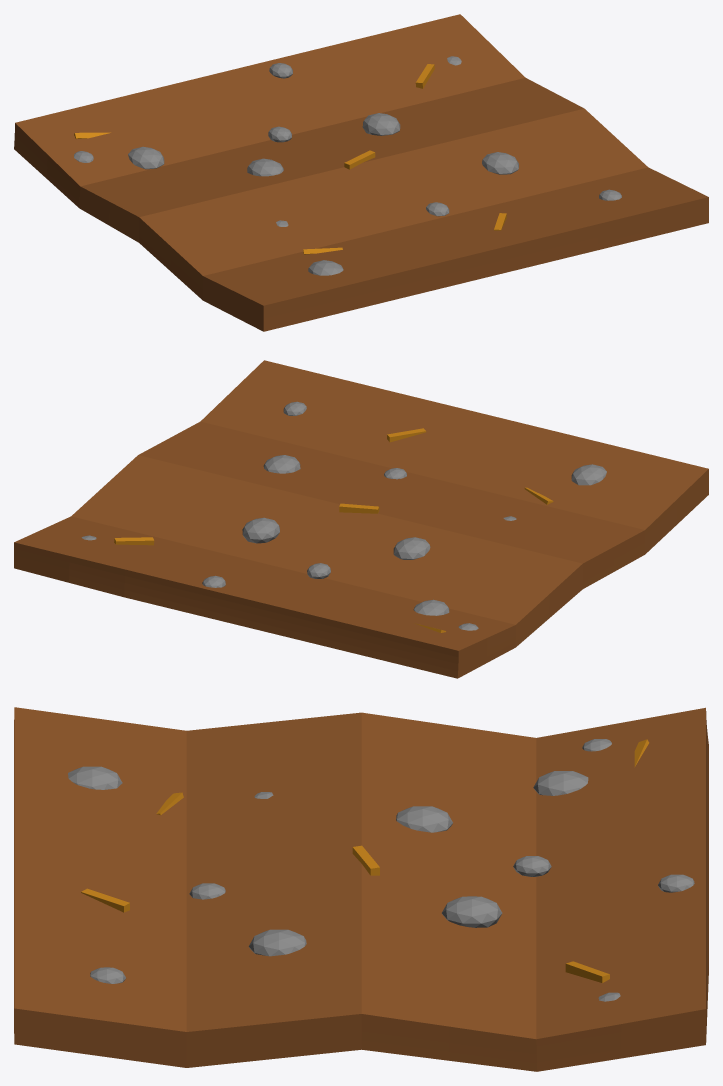
File: soil 1.fbx
3 renders of one model, top to bottom at view 1: azimuth 30°, elevation 25°; view 2: azimuth 150°, elevation 25°; view 3: azimuth 270°, elevation 25°, orthographic. The views are drawn at different scales.
Visible parts, largest first — view 1: Cube, Icosphere.005, Icosphere.006, Icosphere.010, Icosphere; view 2: Cube, Icosphere.005, Icosphere, Icosphere.007, Icosphere.006; view 3: Cube, Icosphere.005, Icosphere.006, Icosphere, Icosphere.010, Icosphere.007, Icosphere.002.
Boxes of the visible parts, left/top/right/bottom form: Cube: left=14, top=14, right=708, bottom=331; Icosphere.005: left=362, top=113, right=400, bottom=135; Icosphere.006: left=482, top=152, right=518, bottom=174; Icosphere.010: left=128, top=146, right=164, bottom=169; Icosphere: left=247, top=158, right=283, bottom=176; Cube: left=14, top=360, right=708, bottom=678; Icosphere.005: left=242, top=517, right=279, bottom=543; Icosphere: left=393, top=537, right=430, bottom=559; Icosphere.007: left=571, top=464, right=606, bottom=485; Icosphere.006: left=263, top=455, right=300, bottom=473; Cube: left=14, top=707, right=708, bottom=1071; Icosphere.005: left=441, top=896, right=502, bottom=927; Icosphere.006: left=248, top=929, right=306, bottom=956; Icosphere: left=396, top=806, right=452, bottom=832; Icosphere.010: left=533, top=771, right=588, bottom=795; Icosphere.007: left=68, top=766, right=122, bottom=789; Icosphere.002: left=513, top=856, right=551, bottom=876.
Size of the model in its own units: 101 by 10.02 by 97.48.
